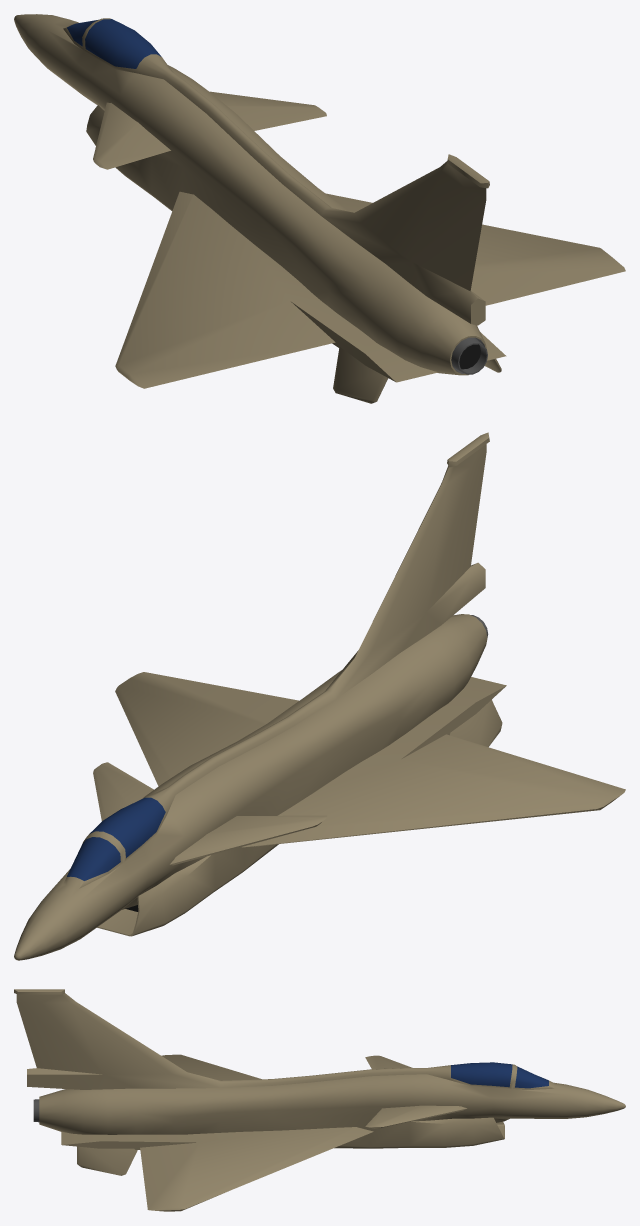
3 views of the same model, one above another, from view 1: azimuth 30°, elevation 25°; view 2: azimuth 150°, elevation 25°; view 3: azimuth 270°, elevation 25° (orthographic). The views are drawn at different scales.
Visible parts, largest first — view 1: J10B; view 2: J10B; view 3: J10B.
Part boxes in pixels (x1=…): J10B: x1=14, y1=14, x2=625, y2=403; J10B: x1=14, y1=432, x2=625, y2=960; J10B: x1=14, y1=989, x2=625, y2=1211.
Bounding box in the file's own units: 8.69 × 4.33 × 14.6.
